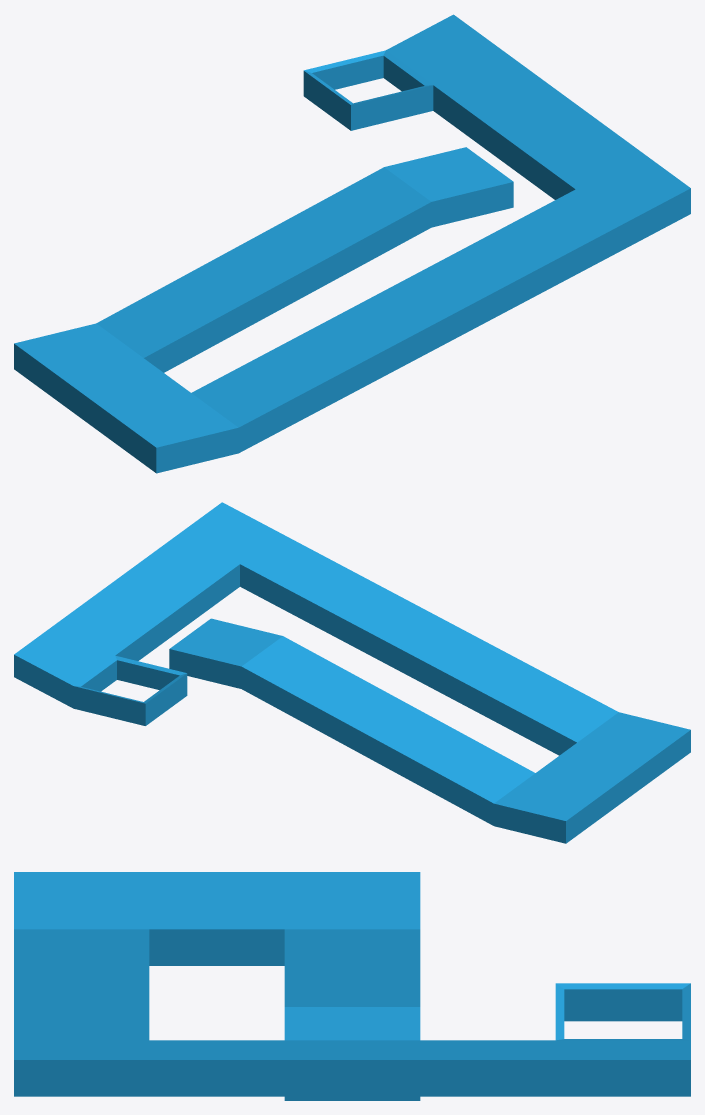
Rendered from model_map_09.fbx.
The picture shows the model from 3 angles, top to bottom: view 1: azimuth 30°, elevation 25°; view 2: azimuth 150°, elevation 25°; view 3: azimuth 270°, elevation 25°; orthographic projection. The views are drawn at different scales.
Parts seen in each view (by area): view 1: col, lvl; view 2: col, lvl; view 3: col, lvl.
Part boxes in pixels (left/top/right/bottom): col: left=14, top=14, right=690, bottom=447; lvl: left=14, top=55, right=690, bottom=473; col: left=14, top=502, right=690, bottom=820; lvl: left=14, top=564, right=690, bottom=843; col: left=14, top=872, right=690, bottom=1059; lvl: left=14, top=929, right=690, bottom=1100.
Bounding box in the file's own units: 1300 × 360 × 1000.
